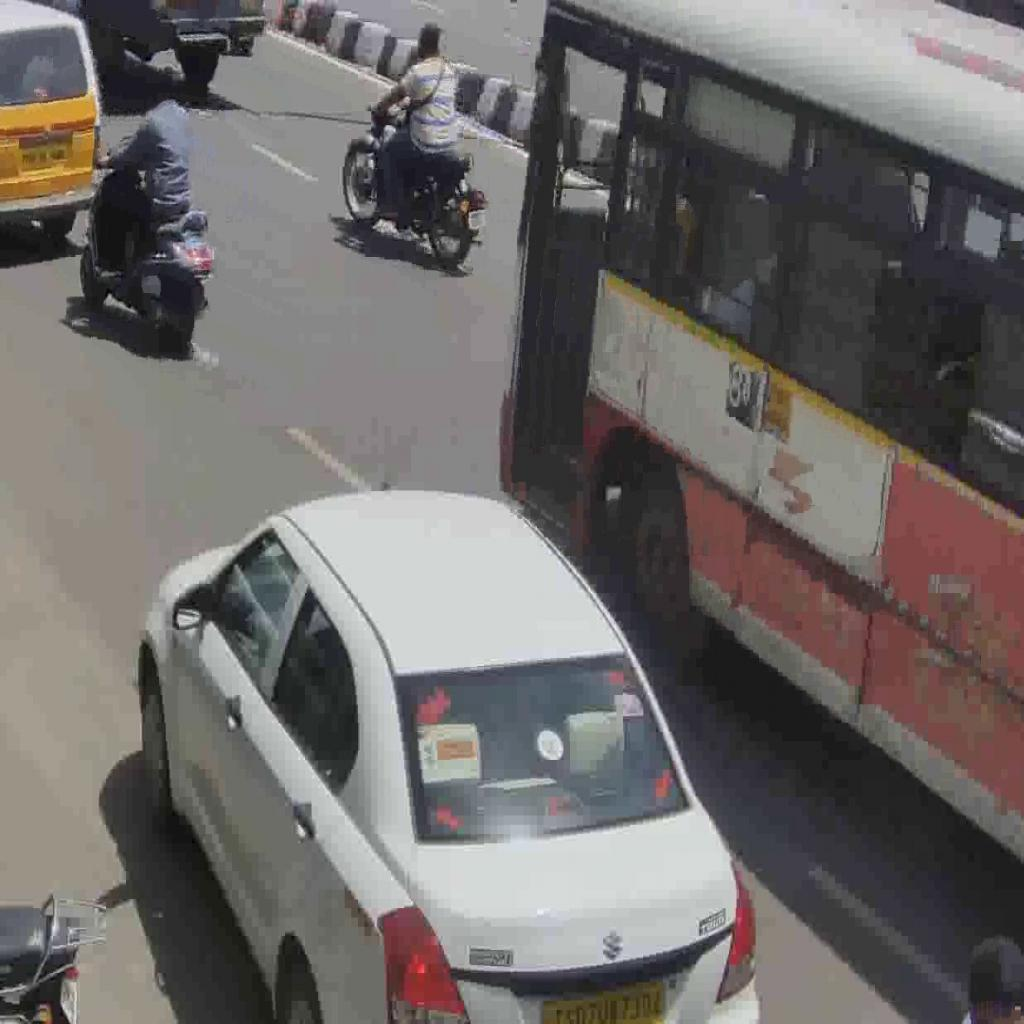helmet: (78, 137, 214, 344), (340, 102, 490, 266)
